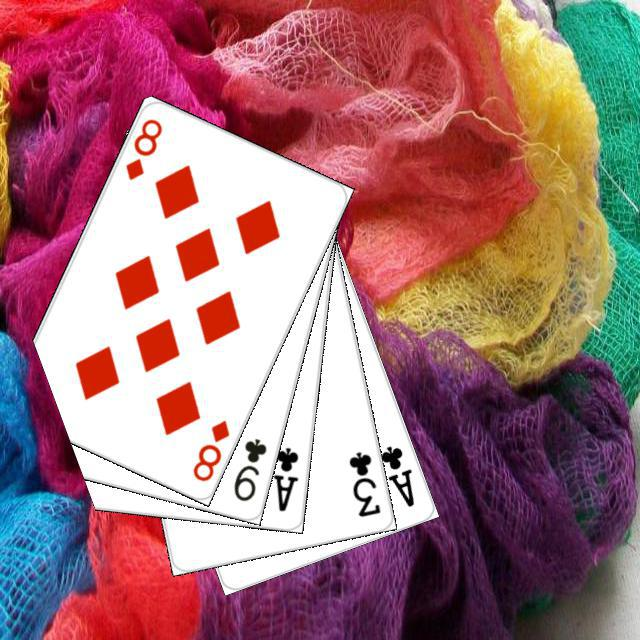3c: (343, 446, 383, 519)
8d: (120, 113, 164, 182), (187, 415, 231, 483)
9c: (228, 433, 269, 503)
Ac: (375, 440, 416, 509), (269, 442, 300, 513)
